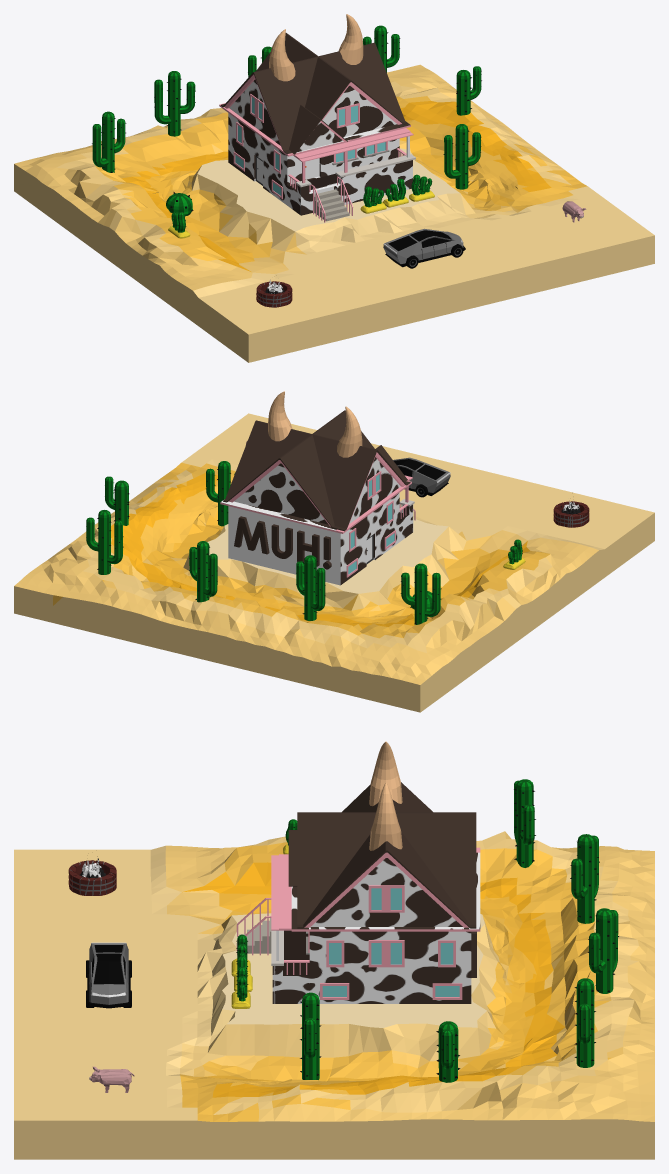
The picture shows the model from 3 angles, top to bottom: view 1: azimuth 30°, elevation 25°; view 2: azimuth 150°, elevation 25°; view 3: azimuth 270°, elevation 25°; orthographic projection. The views are drawn at different scales.
Parts seen in each view (by area): view 1: Cube.001, Cube.1242, VEHICLES_CYBERTRUCK, Cylinder.037, Cylinder.044, Cylinder.045, Cylinder.038, OBJRANDOM_CAMPFIRE, Cylinder.042, Cylinder.041, Cylinder.039; view 2: Cube.001, Cube.1242, Cylinder.045, Cylinder.042, Cylinder.044, Cylinder.043, VEHICLES_CYBERTRUCK, Cylinder.037, Cylinder.038, OBJRANDOM_CAMPFIRE; view 3: Cube.001, Cube.1242, VEHICLES_CYBERTRUCK, Cylinder.044, Cylinder.043, Cylinder.045, Cylinder.042, Cylinder.037, OBJRANDOM_CAMPFIRE, Cylinder.038, ANIMAL_CERDO, Cylinder.041.
Part boxes in pixels (<box>): Cube.001: <box>14,64,654,362</box>; Cube.1242: <box>219,14,415,222</box>; VEHICLES_CYBERTRUCK: <box>383,228,465,268</box>; Cylinder.037: <box>443,124,481,189</box>; Cylinder.044: <box>154,71,195,136</box>; Cylinder.045: <box>92,111,126,172</box>; Cylinder.038: <box>456,66,481,115</box>; OBJRANDOM_CAMPFIRE: <box>256,279,292,307</box>; Cylinder.042: <box>363,25,400,72</box>; Cylinder.041: <box>409,174,434,201</box>; Cylinder.039: <box>360,186,386,213</box>; Cube.001: <box>14,413,654,712</box>; Cube.1242: <box>220,391,415,585</box>; Cylinder.045: <box>400,563,441,624</box>; Cylinder.042: <box>86,510,123,574</box>; Cylinder.044: <box>296,555,325,620</box>; Cylinder.043: <box>189,541,217,602</box>; VEHICLES_CYBERTRUCK: <box>393,457,450,497</box>; Cylinder.037: <box>206,461,235,526</box>; Cylinder.038: <box>105,476,129,525</box>; OBJRANDOM_CAMPFIRE: <box>553,500,589,527</box>; Cube.001: <box>14,831,654,1159</box>; Cube.1242: <box>236,741,480,1003</box>; VEHICLES_CYBERTRUCK: <box>86,942,131,1008</box>; Cylinder.044: <box>570,834,599,923</box>; Cylinder.043: <box>588,908,618,993</box>; Cylinder.045: <box>514,779,535,867</box>; Cylinder.042: <box>574,978,595,1067</box>; Cylinder.037: <box>300,992,321,1079</box>; OBJRANDOM_CAMPFIRE: <box>68,856,116,895</box>; Cylinder.038: <box>436,1021,460,1082</box>; ANIMAL_CERDO: <box>89,1066,134,1092</box>; Cylinder.041: <box>231,966,250,1008</box>.
Size of the model in its own units: 4002 by 1886 by 4001.
34 materials, 2 textured.
